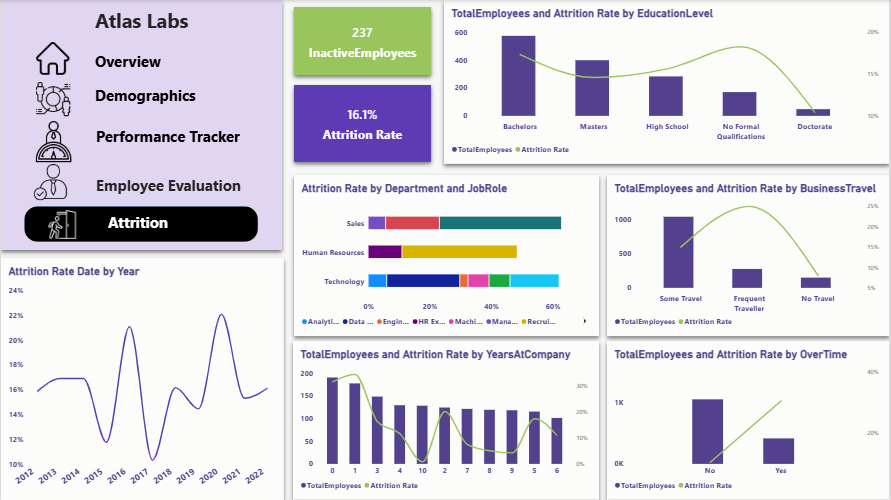

The dashboard page shown, as its layout file describes it:
{"tool":"powerbi","page":{"name":"Attrition","canvas":[1920,1080],"ordinal":4},"visuals":[{"type":"textbox","title":"Atlas Labe","box":[0,0,607,540],"z":0,"group":"g1"},{"type":"card","fields":{"Values":["_Measures.Attrition Rate"]},"box":[632.9,183.6,295.9,166.3],"z":0},{"type":"image","box":[35.9,90.9,150.3,71.4],"z":1000,"group":"g1"},{"type":"barChart","fields":{"Category":["DimEmployee.Department"],"Series":["DimEmployee.JobRole"],"Y":["_Measures.Attrition Rate"]},"box":[632.9,378,658.8,347.8],"z":1000},{"type":"shape","box":[50,445.1,506.1,77.8],"z":2000,"group":"g1"},{"type":"lineChart","fields":{"Category":["DimDate.Date.Variation.Date Hierarchy.Year"],"Y":["_Measures.Attrition Rate Date"]},"box":[0,557.3,611.3,522.7],"z":2000},{"type":"textbox","box":[203.7,109.2,246.7,270.5],"z":3000,"group":"g1"},{"type":"lineStackedColumnComboChart","fields":{"Category":["DimEmployee.BusinessTravel"],"Y":["_Measures.TotalEmployees"],"Y2":["_Measures.Attrition Rate"]},"box":[1309,378,611.3,347.8],"z":3000},{"type":"image","box":[20.9,260.6,183.8,88.7],"z":4000,"group":"g1"},{"type":"lineStackedColumnComboChart","fields":{"Category":["DimEmployee.OverTime"],"Y":["_Measures.TotalEmployees"],"Y2":["_Measures.Attrition Rate"]},"box":[1309,736.6,611.3,343.4],"z":4000},{"type":"lineStackedColumnComboChart","fields":{"Category":["DimEducationLevel.EducationLevel"],"Y":["_Measures.TotalEmployees"],"Y2":["_Measures.Attrition Rate"]},"box":[956.9,0,963.4,354.2],"z":5000},{"type":"image","box":[59.9,351.9,91.9,83.3],"z":5000,"group":"g1"},{"type":"textbox","box":[203.7,182.7,370,307.3],"z":6000,"group":"g1"},{"type":"lineStackedColumnComboChart","fields":{"Category":["DimEmployee.YearsAtCompany"],"Y":["_Measures.TotalEmployees"],"Y2":["_Measures.Attrition Rate"]},"box":[630.7,736.6,661,343.4],"z":6000},{"type":"card","fields":{"Values":["_Measures.InactiveEmployees"]},"box":[632.9,15.1,295.9,146.9],"z":7000},{"type":"textbox","box":[206,271.3,373.1,163.9],"z":7000,"group":"g1"},{"type":"group","id":"g1","title":"Group 1","box":[0,0,607,540],"z":8000},{"type":"textbox","box":[206,378.8,400.9,110.1],"z":8000,"group":"g1"},{"type":"textbox","box":[230.8,458.5,325.3,80.4],"z":9000,"group":"g1"},{"type":"image","box":[49.8,176.2,125.6,73.6],"z":10000,"group":"g1"},{"type":"image","box":[77.9,453.2,108.4,61.7],"z":11000,"group":"g1"}]}

Visuals, with their boxes in screenshot pixels (x1, y1, x2, y2), scaled from the page's 1920x1080 canvas onto the 891x500 screenshot:
"Atlas Labe" textbox: rect(0, 0, 282, 250)
card - _Measures.Attrition Rate: rect(294, 85, 431, 162)
image: rect(17, 42, 86, 75)
barChart - DimEmployee.Department x DimEmployee.JobRole: rect(294, 175, 599, 336)
shape: rect(23, 206, 258, 242)
lineChart - DimDate.Date.Variation.Date Hierarchy.Year x _Measures.Attrition Rate Date: rect(0, 258, 284, 499)
textbox: rect(95, 51, 209, 176)
lineStackedColumnComboChart - DimEmployee.BusinessTravel x _Measures.TotalEmployees: rect(607, 175, 890, 336)
image: rect(10, 121, 95, 162)
lineStackedColumnComboChart - DimEmployee.OverTime x _Measures.TotalEmployees: rect(607, 341, 890, 499)
lineStackedColumnComboChart - DimEducationLevel.EducationLevel x _Measures.TotalEmployees: rect(444, 0, 890, 164)
image: rect(28, 163, 70, 201)
textbox: rect(95, 85, 266, 227)
lineStackedColumnComboChart - DimEmployee.YearsAtCompany x _Measures.TotalEmployees: rect(293, 341, 599, 499)
card - _Measures.InactiveEmployees: rect(294, 7, 431, 75)
textbox: rect(96, 126, 269, 201)
"Group 1" group: rect(0, 0, 282, 250)
textbox: rect(96, 175, 282, 226)
textbox: rect(107, 212, 258, 249)
image: rect(23, 82, 81, 116)
image: rect(36, 210, 86, 238)
